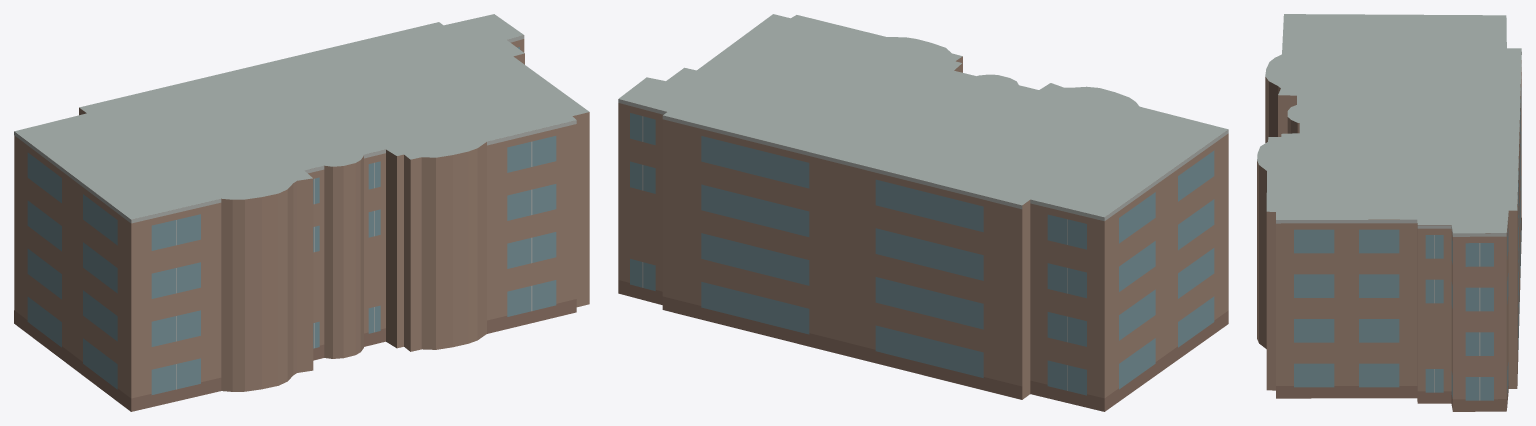
Rendered from survey-upis-32865449.glb.
3 views of the same model, side by side, from view 1: azimuth 30°, elevation 25°; view 2: azimuth 150°, elevation 25°; view 3: azimuth 270°, elevation 25° (orthographic). The views are drawn at different scales.
Parts seen in each view (by area): view 1: survey-upis-32865449.tmp; view 2: survey-upis-32865449.tmp; view 3: survey-upis-32865449.tmp.
Boxes of the visible parts, x1,y1,x2,y2 form: survey-upis-32865449.tmp: [14, 14, 589, 411]; survey-upis-32865449.tmp: [618, 14, 1228, 411]; survey-upis-32865449.tmp: [1257, 14, 1521, 411].
Size of the model in its own units: 32.16 by 12.2 by 16.4.
